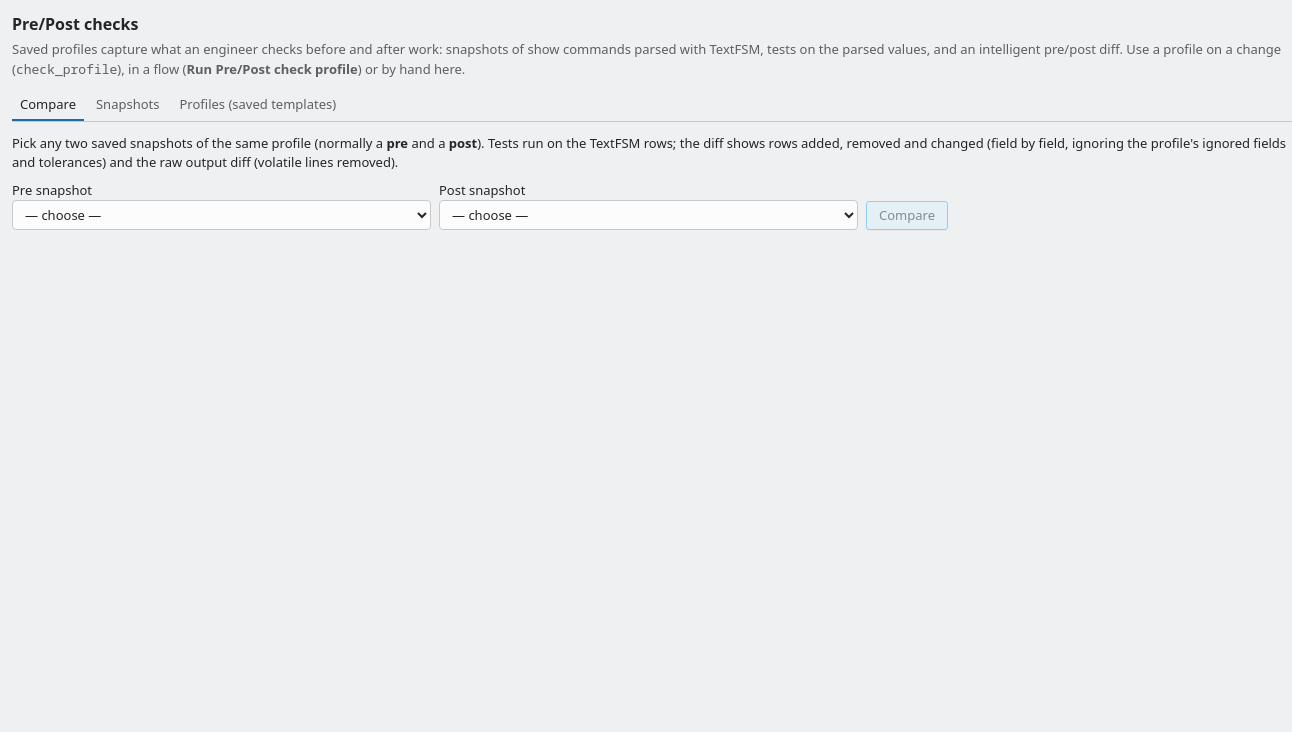
Scenario: Pre/Post checks › compares two saved snapshots: tests, parsed diff and raw diff
The width and height of the screenshot is (1292, 732).
Select "PRE · VLAN baseline · leaf-01 · 11/24/2026, 1:00:00 AM · CHG1" in the dropdown labelled "Pre snapshot" at {"x": 222, "y": 215}, box [12, 200, 431, 230]
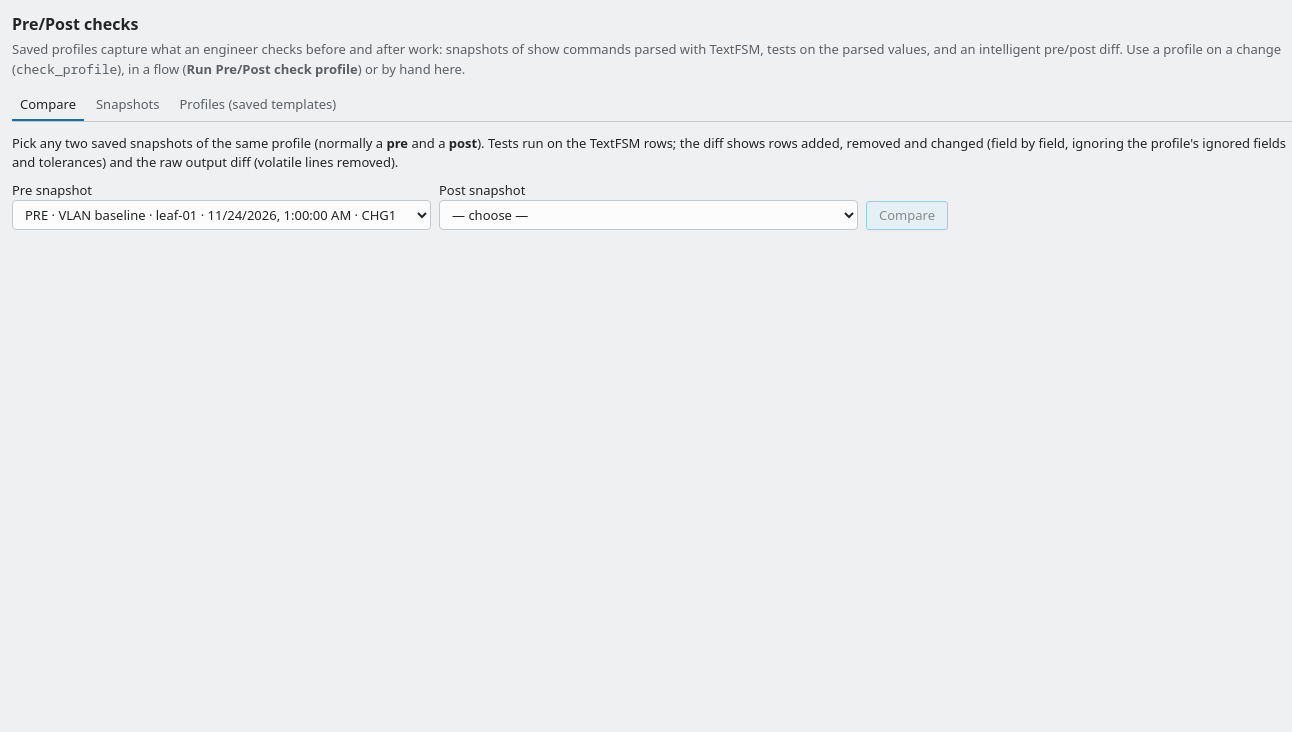
Select "POST · VLAN baseline · leaf-01 · 11/24/2026, 2:00:00 AM · CHG1" in the dropdown labelled "Post snapshot" at {"x": 648, "y": 215}, box [439, 200, 858, 230]
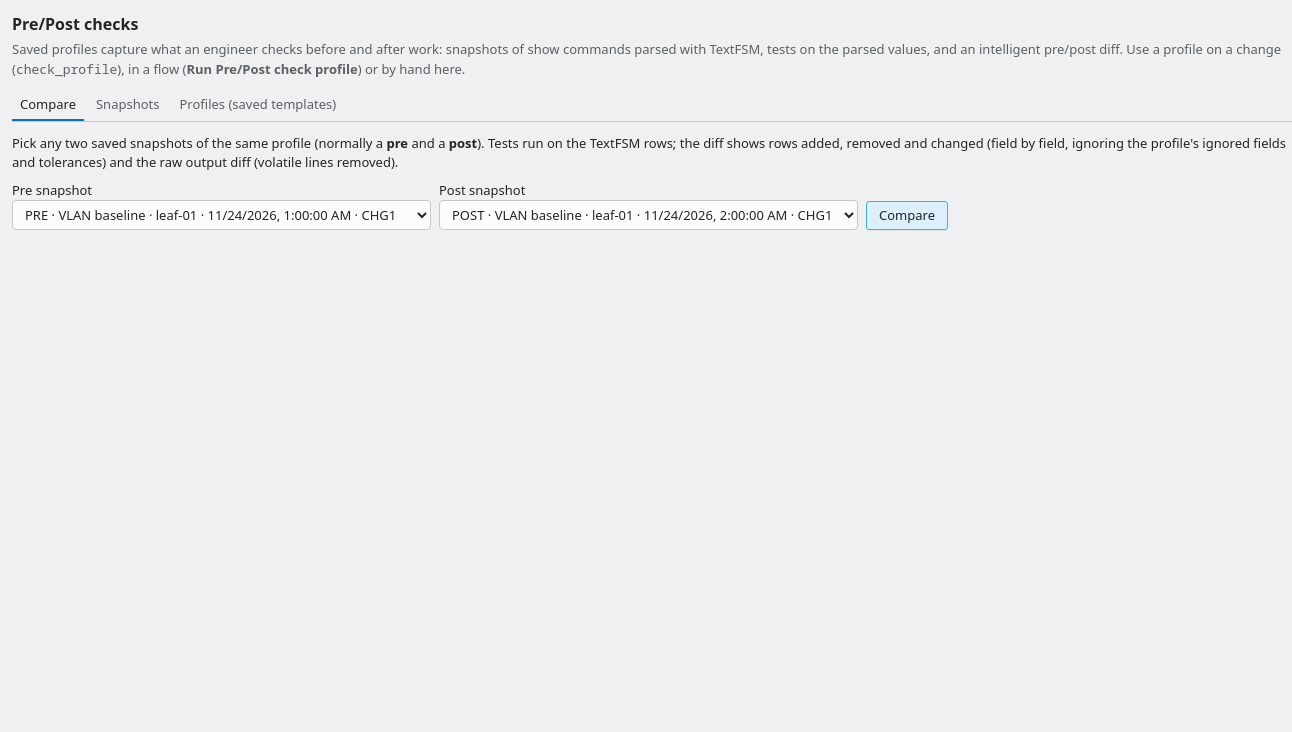
Click the button "Compare" at {"x": 907, "y": 215}, box [866, 200, 948, 230]
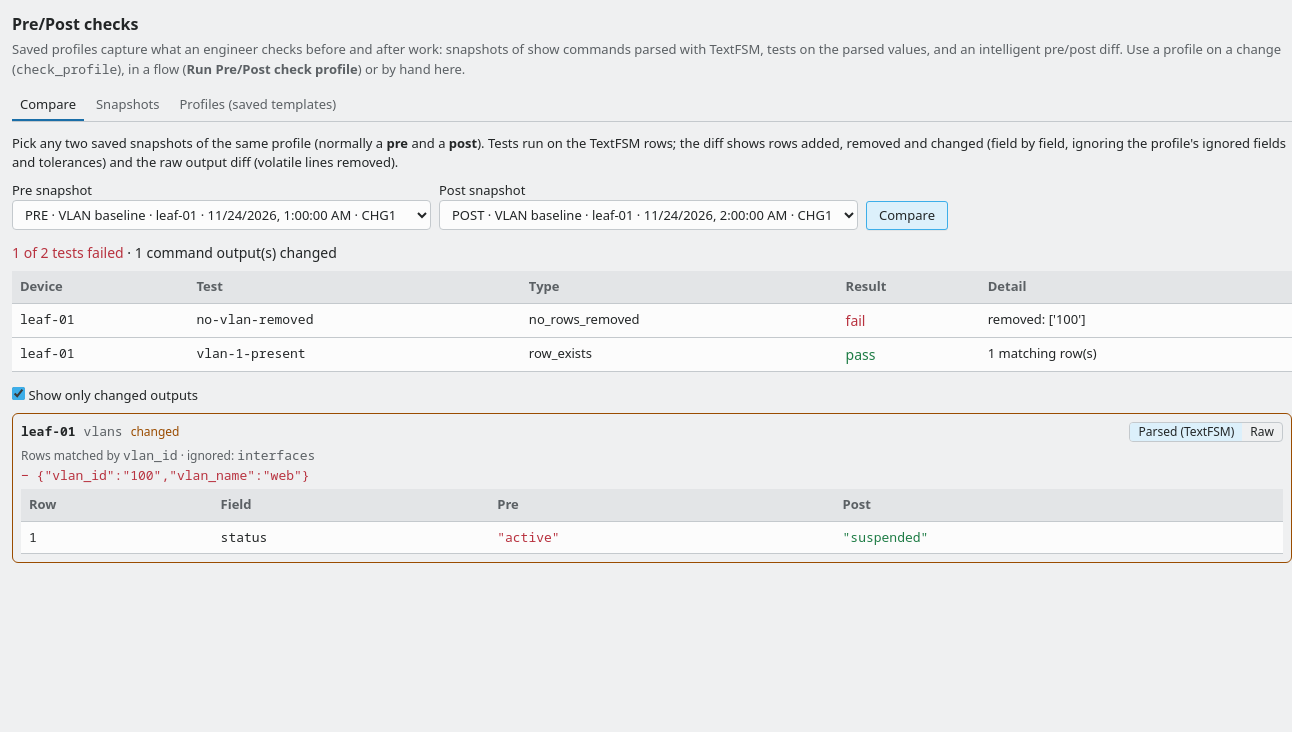
Check: the text "1 of 2 tests failed" is shown, box [12, 243, 124, 262]
Check: the text "no-vlan-removed" is shown, box [188, 303, 521, 337]
Check: the text "\"suspended\"" is shown, box [834, 521, 1283, 554]
Click the button "Raw" at {"x": 1262, "y": 432}, box [1242, 423, 1282, 441]
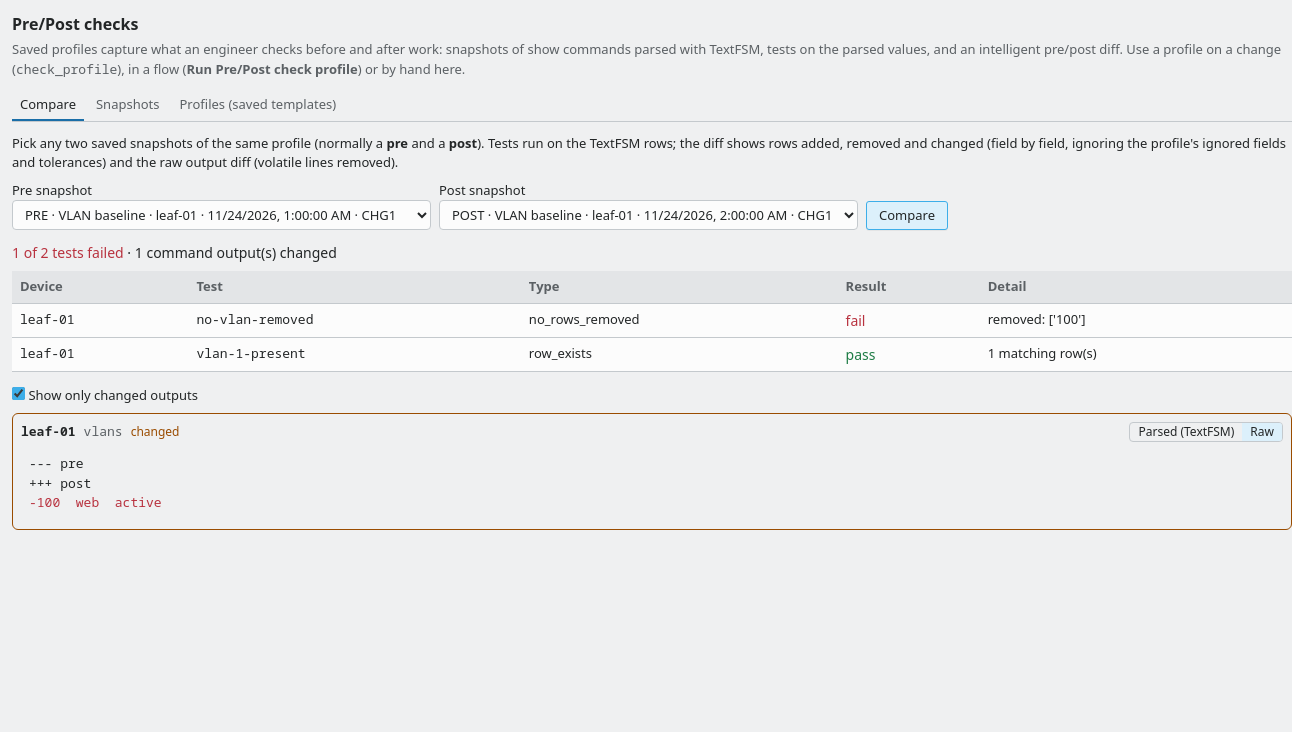
Check: the text "-100 web active" is shown, box [29, 493, 162, 511]
